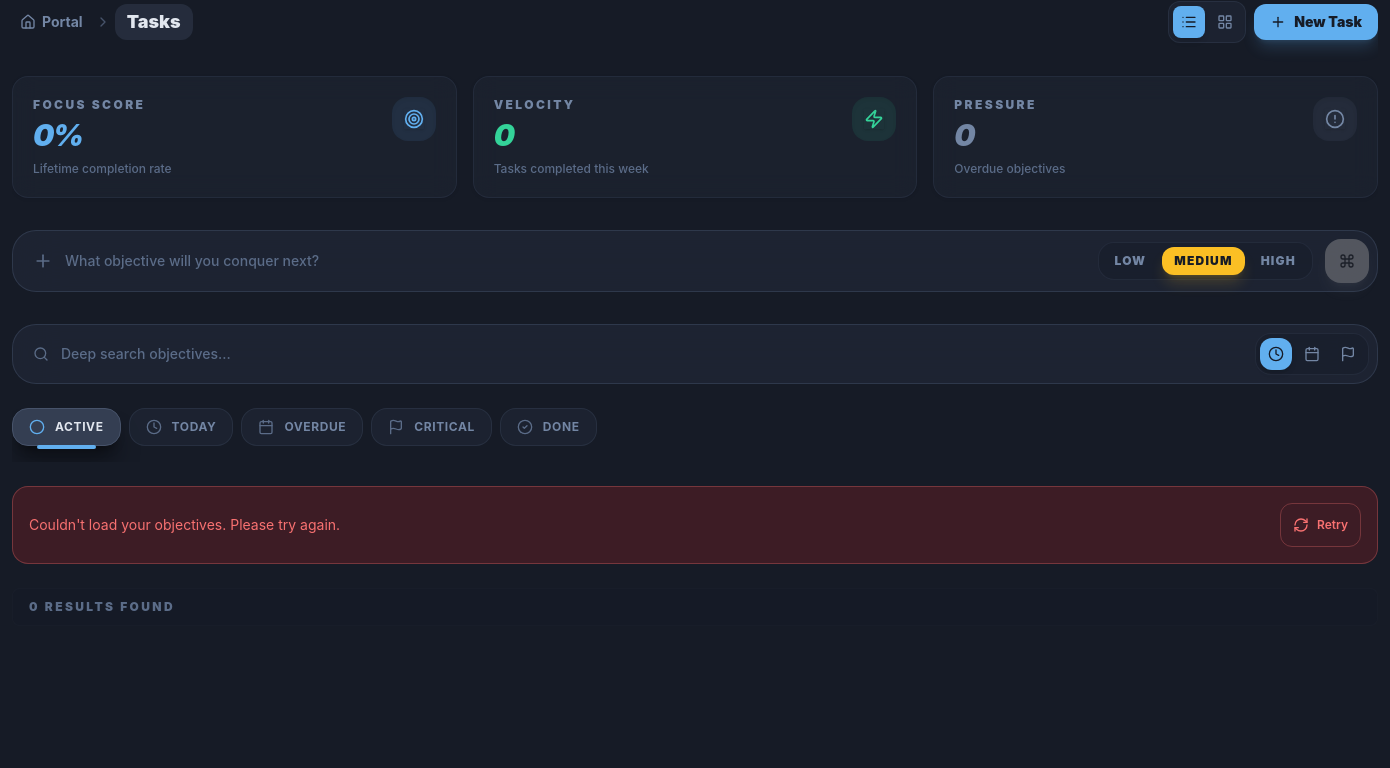
Test case: TodoAdminView › shows a locally created task after the initial load fails
Expected: the message "Couldn't load your objectives. Please try again. Retry" is shown, [12,486,1378,564]
Type "Review project plan" into the field named "Task title" at (553, 261), box [21,239,1086,283]
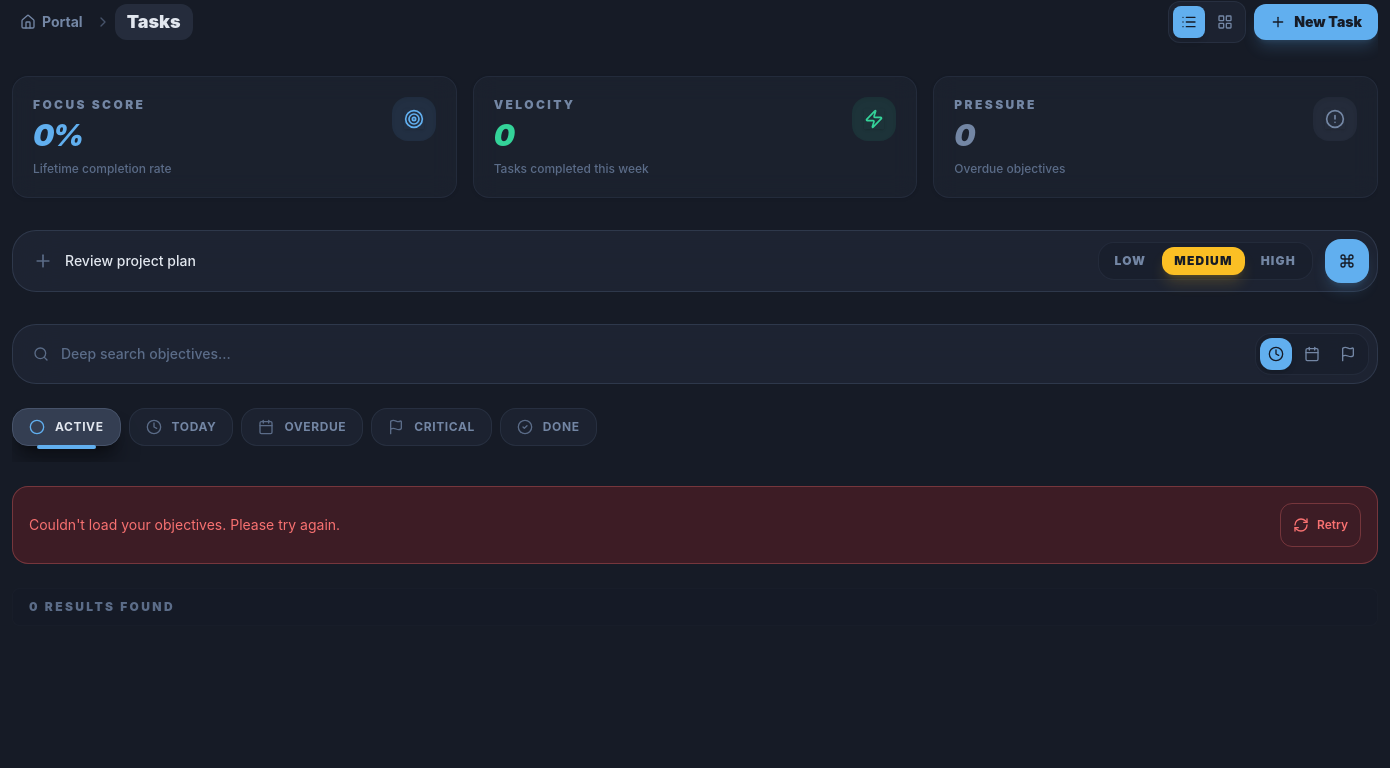
Click the button named "Add task" at (1347, 261), box [1325,239,1369,283]
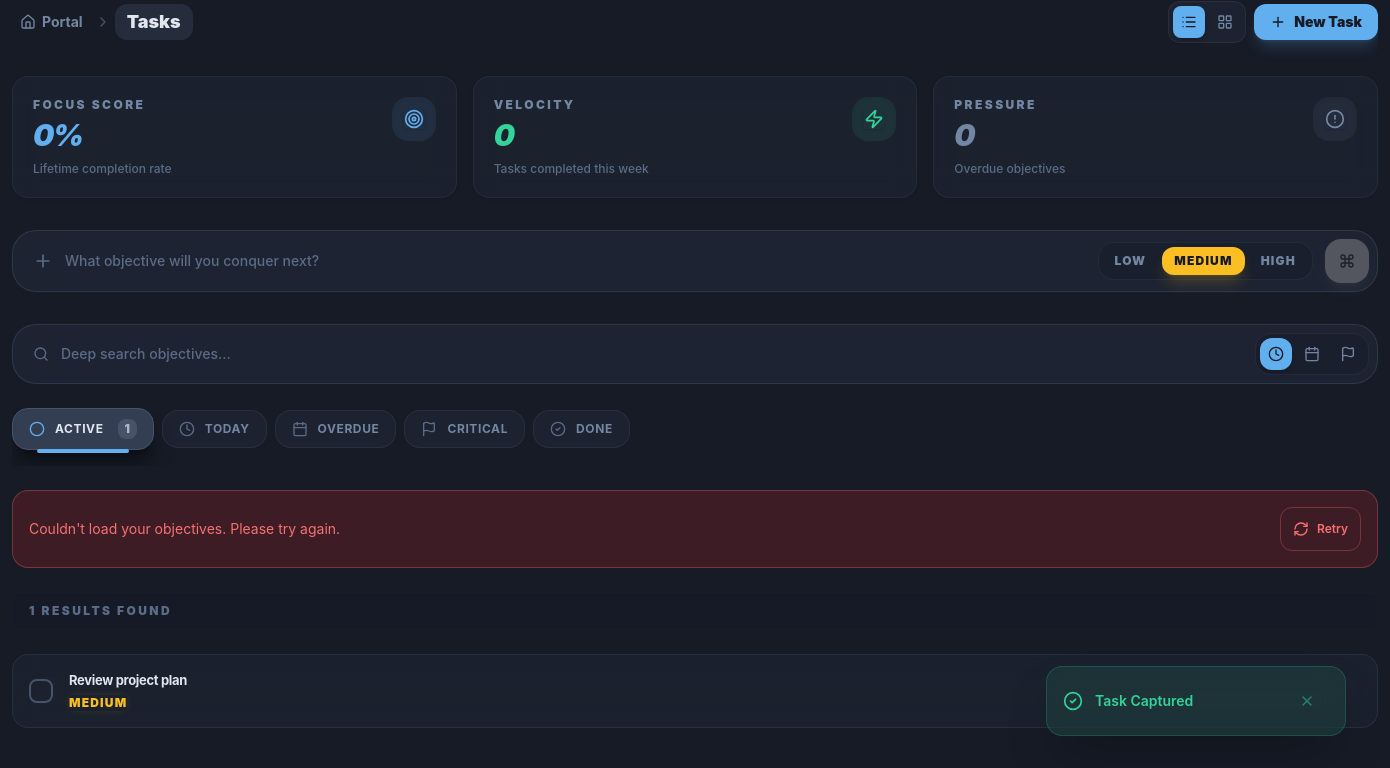
Result: the heading "Review project plan" is shown at [69,672,187,688]
